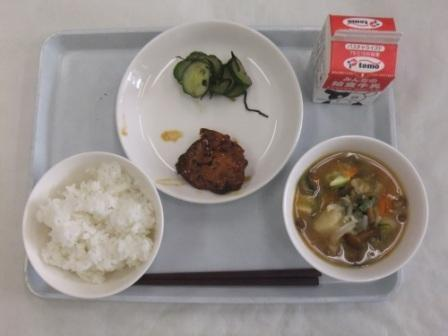Meat: (163, 122, 265, 204)
Milk: (314, 15, 403, 105)
Rice: (31, 155, 165, 288)
Salad: (172, 38, 258, 100)
Soups: (281, 141, 427, 279)
